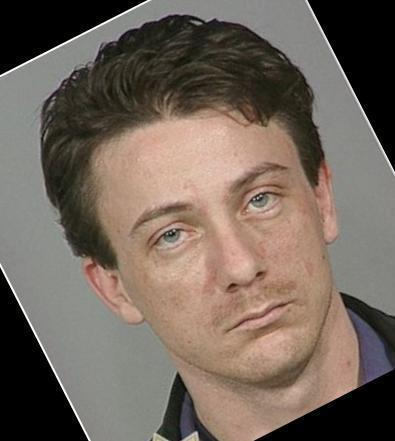Drunk: (92, 116, 327, 372)
